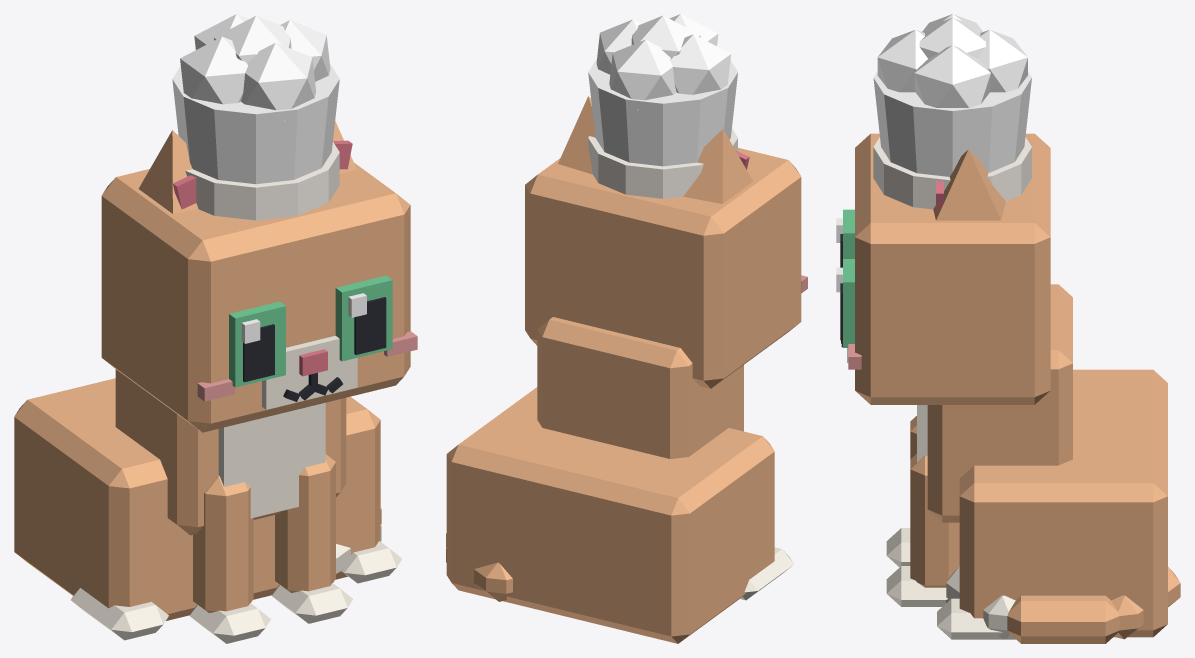
Rendered from CatCafe_Cat_Chonk_Sit.fbx.
The picture shows the model from 3 angles, left to right: view 1: azimuth 30°, elevation 25°; view 2: azimuth 150°, elevation 25°; view 3: azimuth 270°, elevation 25°; orthographic projection. The views are drawn at different scales.
Visible parts, largest first — view 1: CatCafe_Cat_Chonk_Sit_Body, CatCafe_Cat_Chonk_Sit_Head, CatCafe_Cat_Chonk_Sit_Prop, CatCafe_Cat_Chonk_Sit_LegF2, CatCafe_Cat_Chonk_Sit_LegF1, CatCafe_Cat_Chonk_Sit_Eye2, CatCafe_Cat_Chonk_Sit_Eye1, CatCafe_Cat_Chonk_Sit_EarR, CatCafe_Cat_Chonk_Sit_EarL; view 2: CatCafe_Cat_Chonk_Sit_Body, CatCafe_Cat_Chonk_Sit_Head, CatCafe_Cat_Chonk_Sit_Prop, CatCafe_Cat_Chonk_Sit_EarR, CatCafe_Cat_Chonk_Sit_EarL, CatCafe_Cat_Chonk_Sit_Tail; view 3: CatCafe_Cat_Chonk_Sit_Body, CatCafe_Cat_Chonk_Sit_Head, CatCafe_Cat_Chonk_Sit_Prop, CatCafe_Cat_Chonk_Sit_Tail, CatCafe_Cat_Chonk_Sit_LegF1, CatCafe_Cat_Chonk_Sit_EarL, CatCafe_Cat_Chonk_Sit_Eye1, CatCafe_Cat_Chonk_Sit_LegF2, CatCafe_Cat_Chonk_Sit_Eye2.
Boxes of the visible parts, box(x1,y1,x2,y2) form: CatCafe_Cat_Chonk_Sit_Body: box(14, 369, 401, 640); CatCafe_Cat_Chonk_Sit_Head: box(101, 162, 417, 432); CatCafe_Cat_Chonk_Sit_Prop: box(172, 14, 339, 220); CatCafe_Cat_Chonk_Sit_LegF2: box(189, 475, 270, 643); CatCafe_Cat_Chonk_Sit_LegF1: box(272, 454, 352, 623); CatCafe_Cat_Chonk_Sit_Eye2: box(229, 301, 285, 387); CatCafe_Cat_Chonk_Sit_Eye1: box(335, 275, 392, 361); CatCafe_Cat_Chonk_Sit_EarR: box(138, 130, 198, 213); CatCafe_Cat_Chonk_Sit_EarL: box(333, 121, 356, 174); CatCafe_Cat_Chonk_Sit_Body: box(446, 317, 793, 643); CatCafe_Cat_Chonk_Sit_Head: box(525, 147, 807, 388); CatCafe_Cat_Chonk_Sit_Prop: box(588, 14, 737, 198); CatCafe_Cat_Chonk_Sit_EarR: box(683, 129, 753, 203); CatCafe_Cat_Chonk_Sit_EarL: box(558, 96, 595, 174); CatCafe_Cat_Chonk_Sit_Tail: box(446, 533, 512, 601); CatCafe_Cat_Chonk_Sit_Body: box(917, 284, 1167, 639); CatCafe_Cat_Chonk_Sit_Head: box(841, 133, 1050, 404); CatCafe_Cat_Chonk_Sit_Prop: box(873, 14, 1031, 209); CatCafe_Cat_Chonk_Sit_Tail: box(946, 566, 1180, 643); CatCafe_Cat_Chonk_Sit_LegF1: box(886, 454, 959, 606); CatCafe_Cat_Chonk_Sit_EarL: box(933, 149, 1005, 220); CatCafe_Cat_Chonk_Sit_Eye1: box(836, 259, 854, 347); CatCafe_Cat_Chonk_Sit_LegF2: box(886, 416, 916, 567); CatCafe_Cat_Chonk_Sit_Eye2: box(836, 209, 854, 267).
Size of the model in its own units: 1.51 by 2.79 by 1.55.
1 material, 1 textured.
